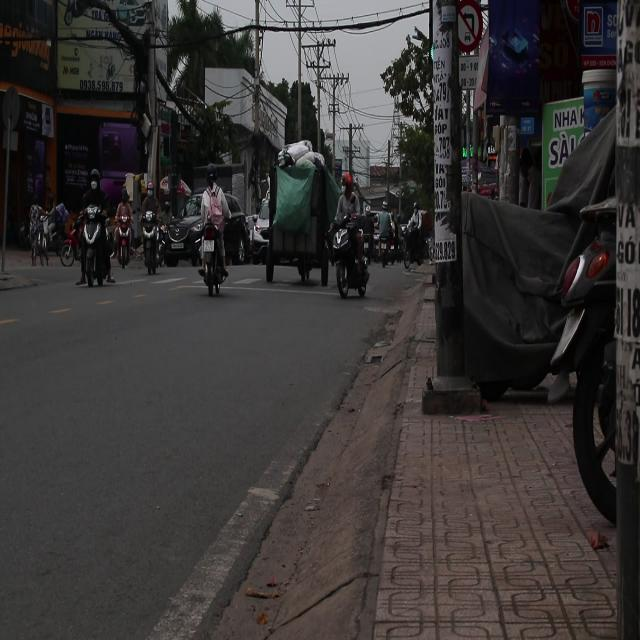motorbike: (331, 220, 373, 308), (80, 199, 110, 295), (198, 222, 232, 296), (142, 212, 170, 275), (59, 223, 78, 265)
